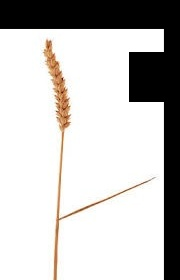wheat: (37, 39, 71, 128)
